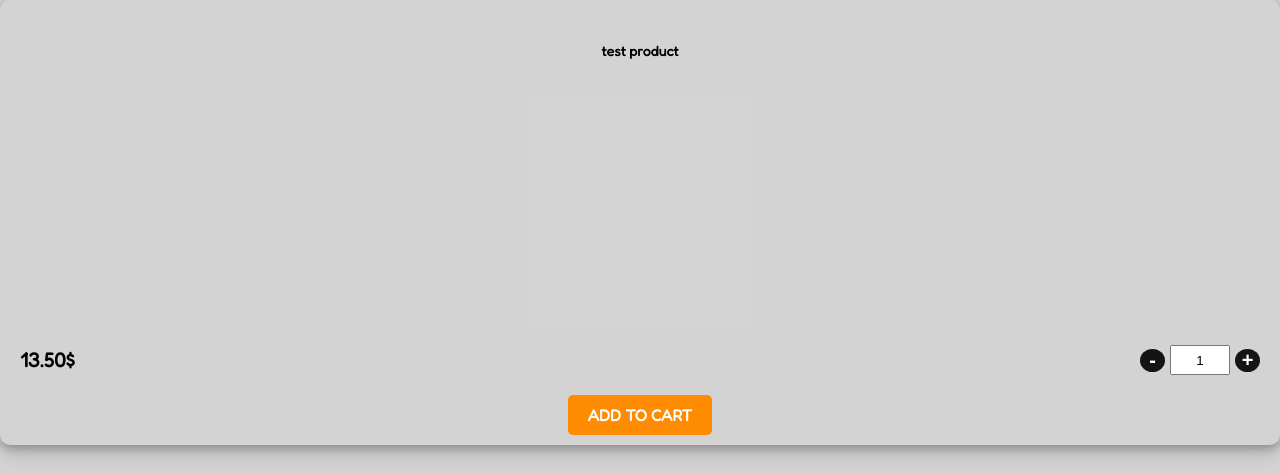
Scenario: Item card component › updates price when changing amount
Expected: the text "13.50$" is shown, [20,348,75,372]
Replace the text in the field with "10" at (1200, 360), box [1170,345,1230,375]
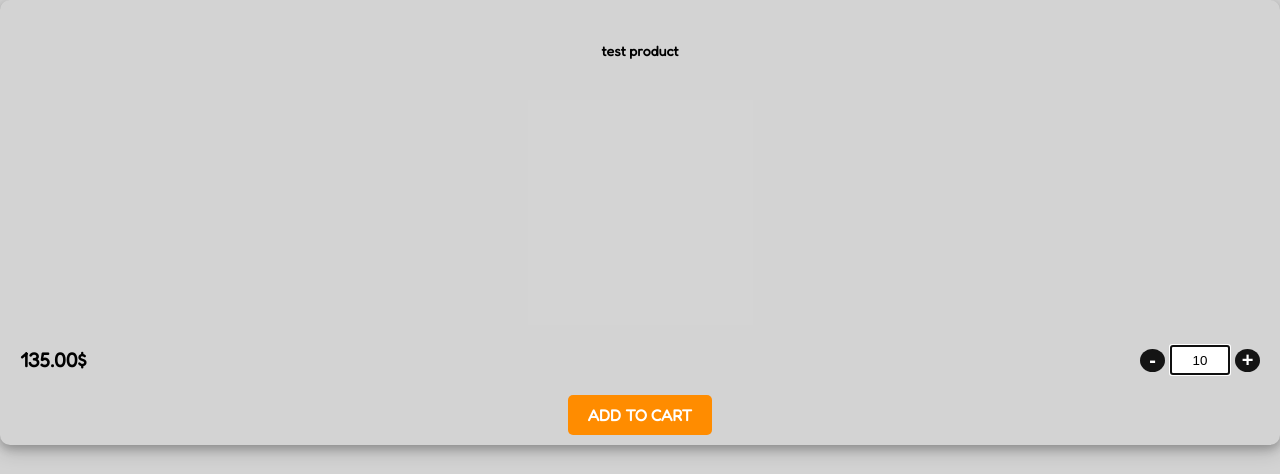
Expected: the text "135.00$" is shown, [20,348,87,372]
